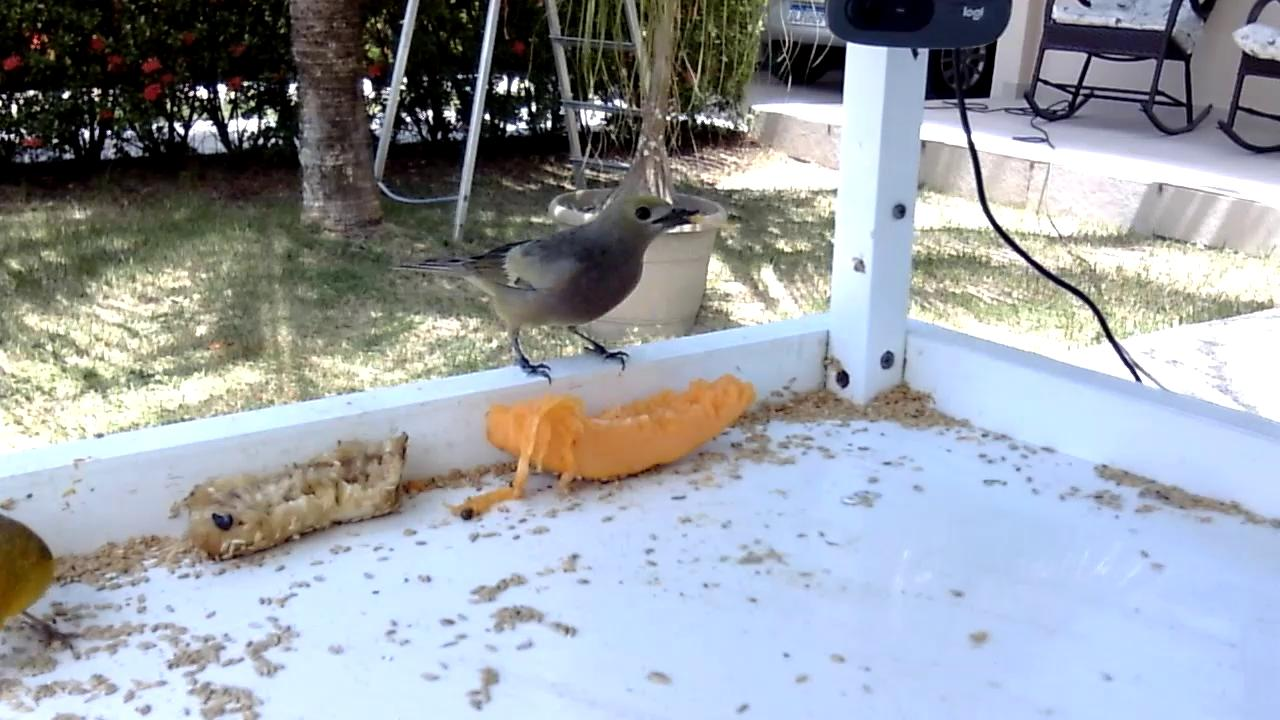canario_do_amazonas: (1, 512, 88, 658)
sanhaco_do_coqueiro: (386, 193, 708, 390)
